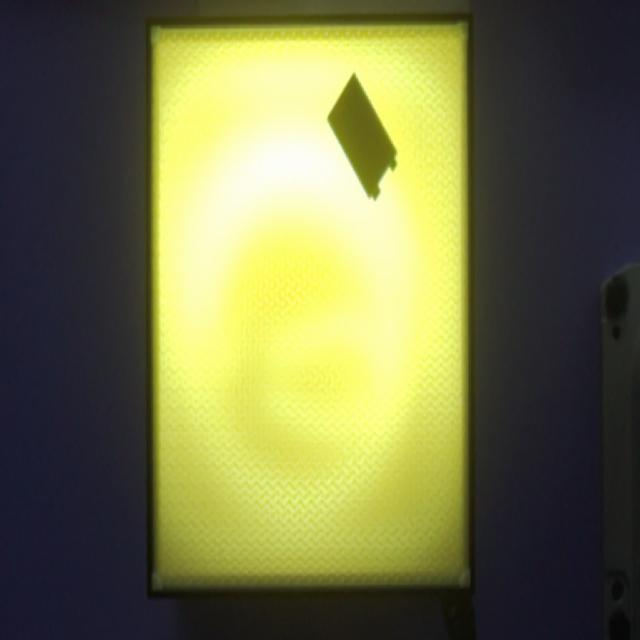bateria: (326, 71, 398, 201)
mesa: (146, 13, 474, 600)
